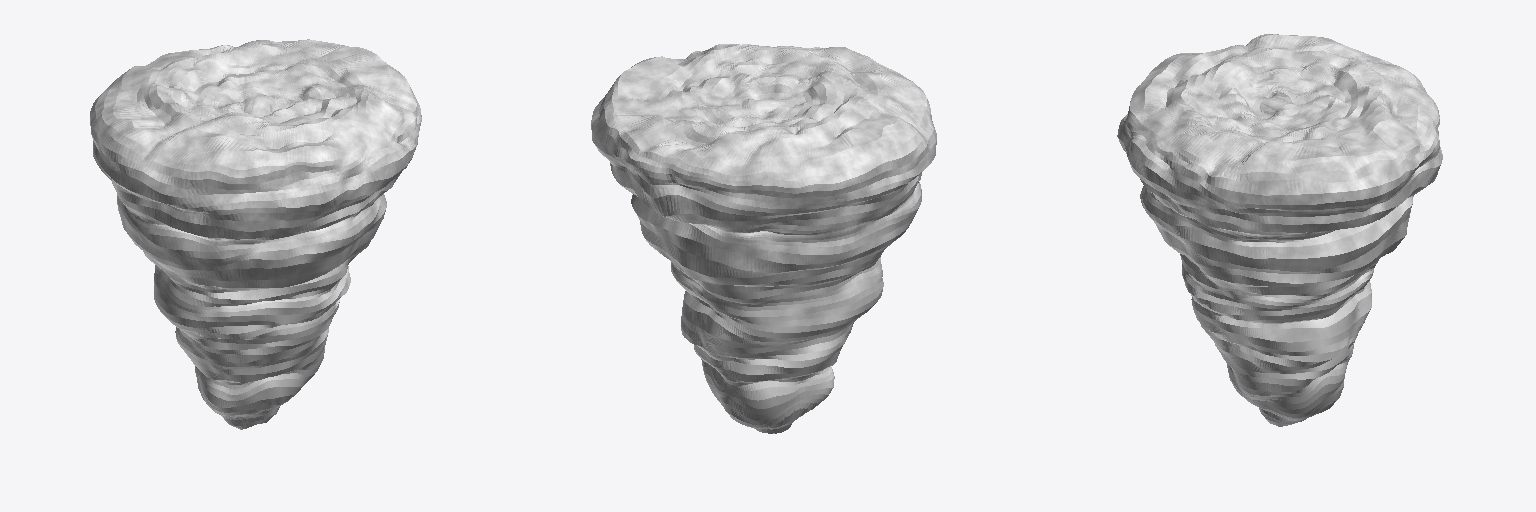
The picture shows the model from 3 angles: view 1: azimuth 30°, elevation 25°; view 2: azimuth 150°, elevation 25°; view 3: azimuth 270°, elevation 25°; orthographic projection.
Parts seen in each view (by area): view 1: Clouds; view 2: Clouds; view 3: Clouds.
Part boxes in pixels (bbox=[...]): Clouds: bbox=[90, 39, 421, 429]; Clouds: bbox=[591, 44, 936, 433]; Clouds: bbox=[1117, 34, 1442, 426].
Bounding box in the file's own units: 2.94 × 3.27 × 2.82.
1 materials, 1 textured.